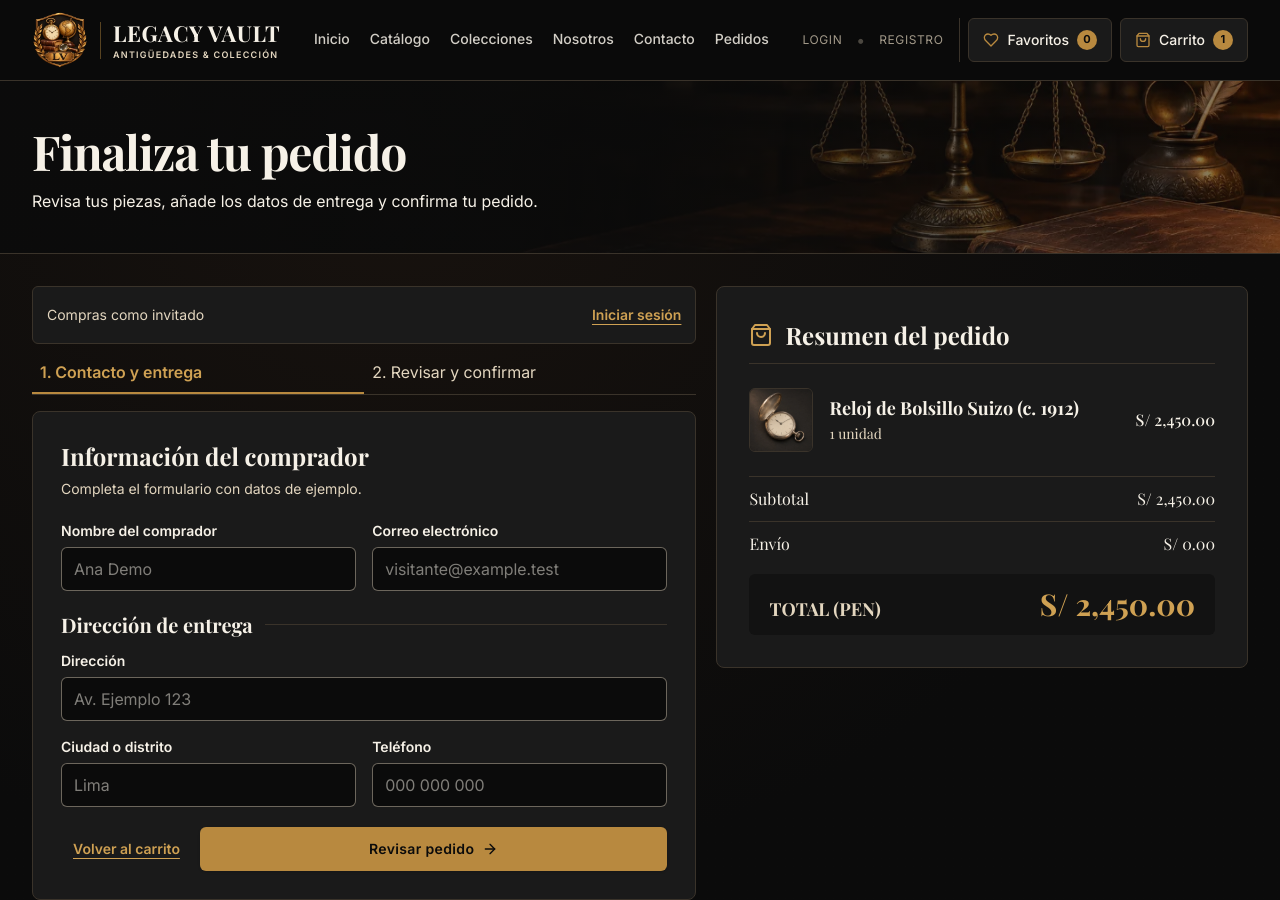
Test: Historial de pedidos simulados (OrdersPage & Checkout) › en checkout con JSON existente corrupto mantiene visible la confirmación, informa que no pudo añadirse al historial y no sobrescribe los datos previos
The image size is (1280, 900).
Expected: the heading "Finaliza tu pedido" is shown, [32,119,406,183]
Type "Juan Comprador" into the field labelled "Nombre del comprador". click: (209, 569)
box: [61,547,356,591]
Type "juan@ejemplo.com" into the field labelled "Correo electrónico". click: (520, 569)
box: [372,547,667,591]
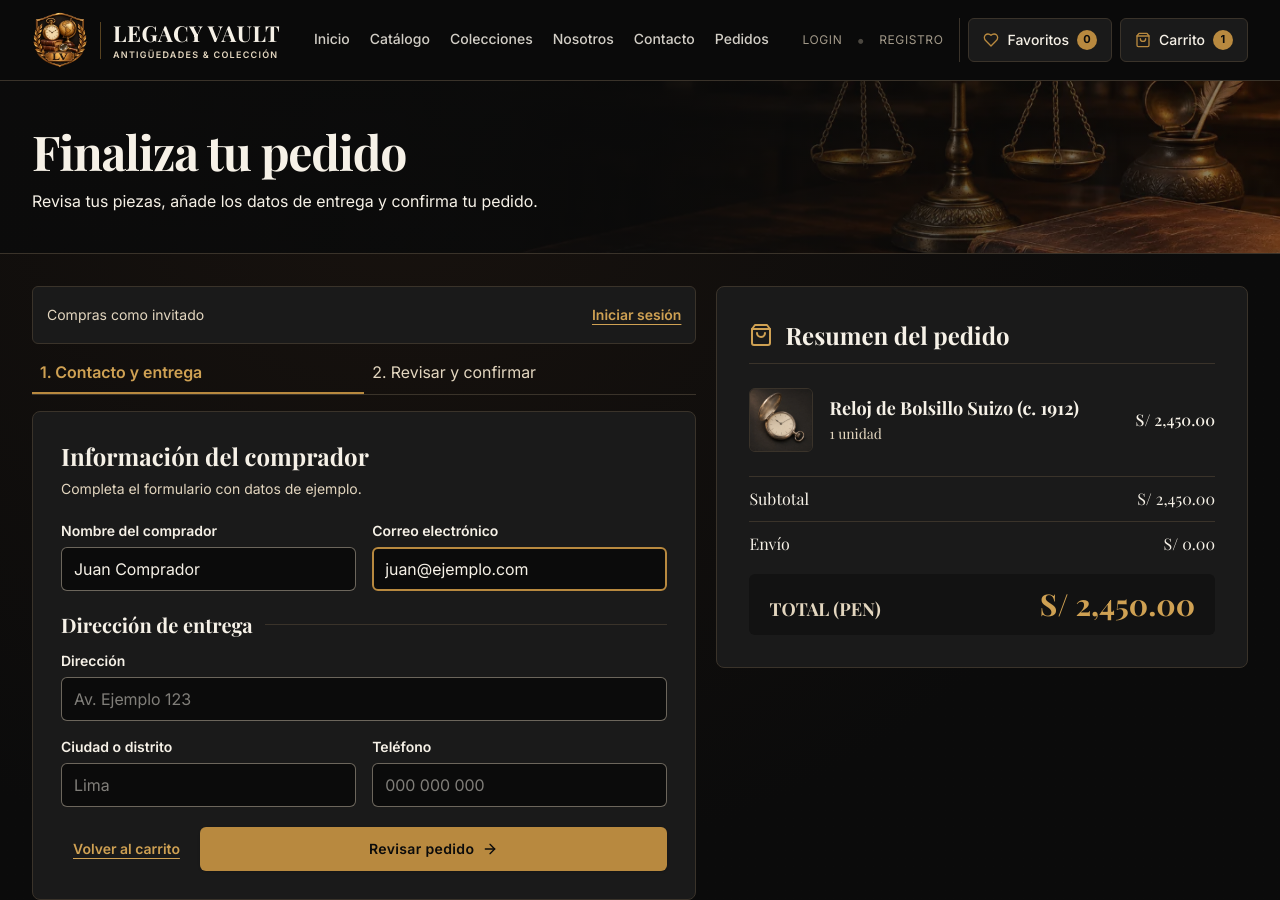
Type "Av. Historia 789" into the field labelled "Dirección". click: (364, 699)
box: [61,677,667,721]
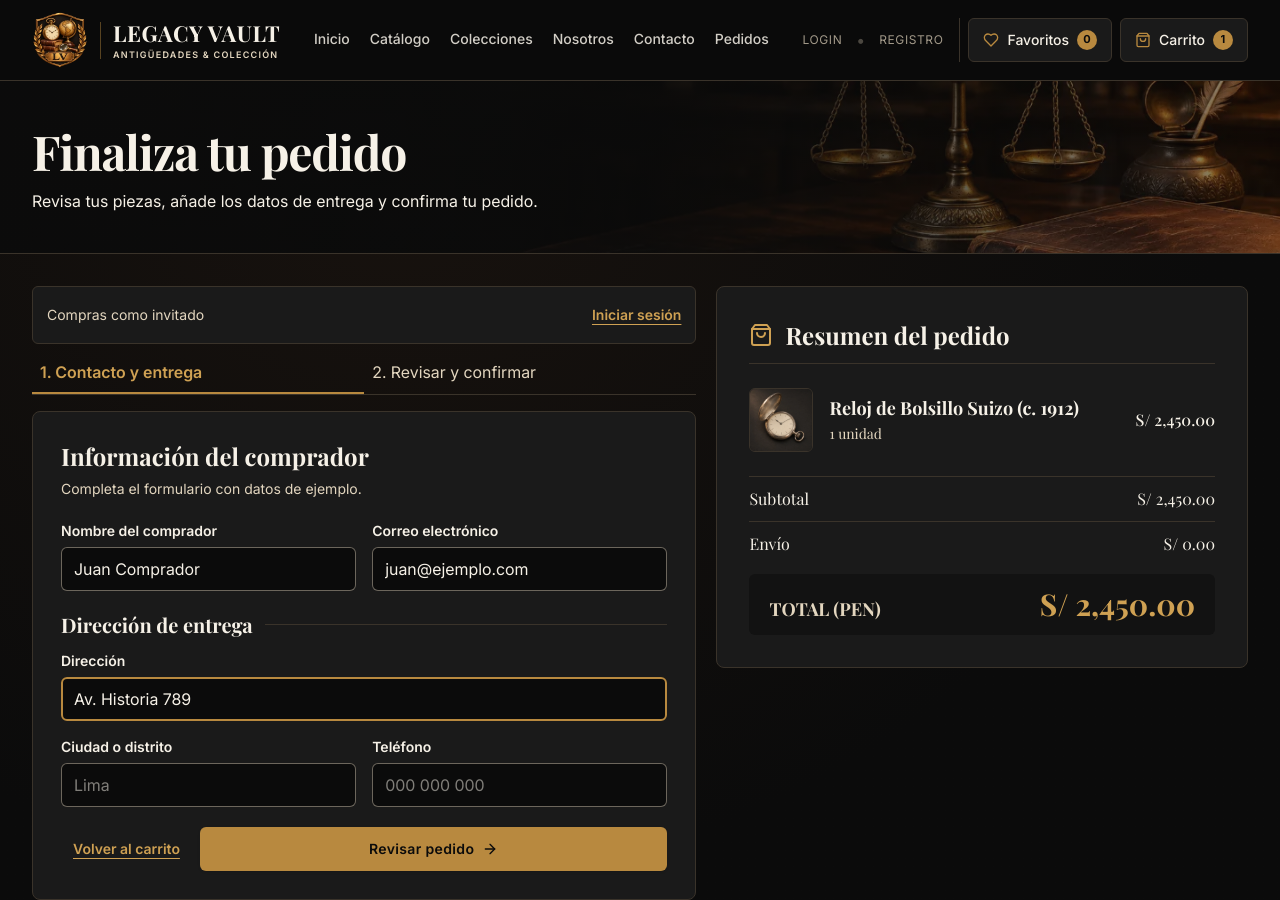
Type "Cusco" into the field labelled "Ciudad o distrito". click: (209, 785)
box: [61,763,356,807]
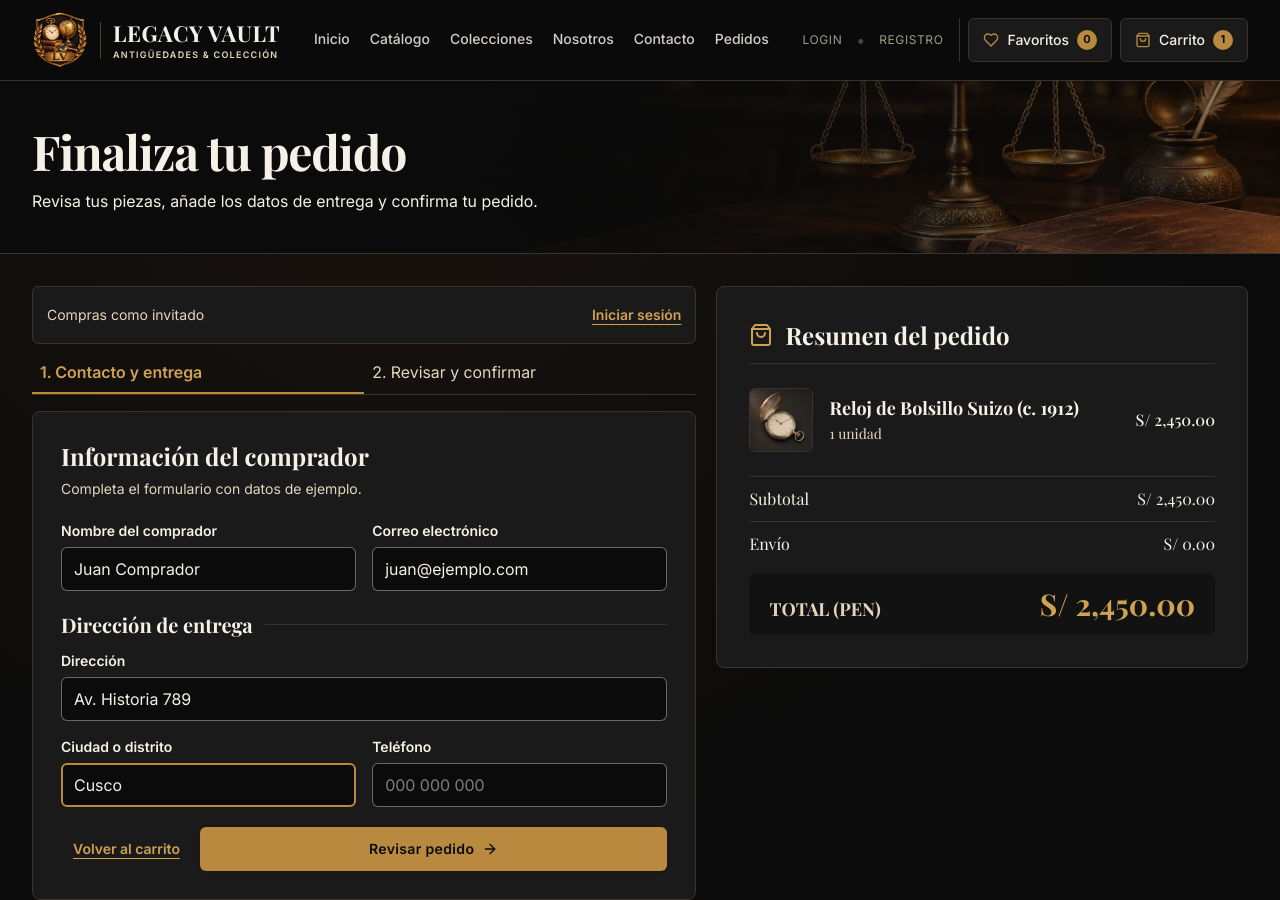
Type "955443322" into the field labelled "Teléfono". click: (520, 785)
box: [372,763,667,807]
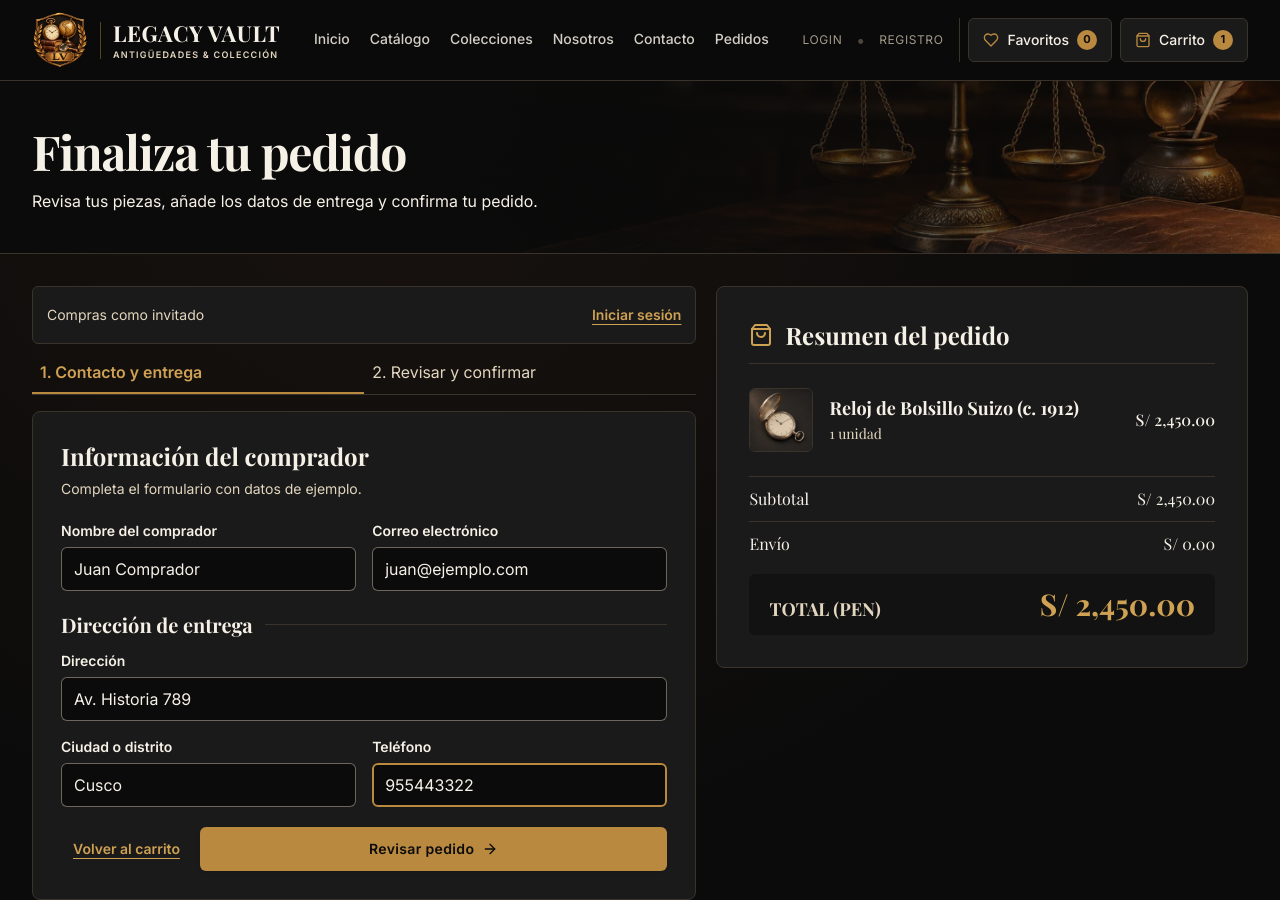
Click the button "Revisar pedido". click: (434, 849)
box: [200,827,667,871]
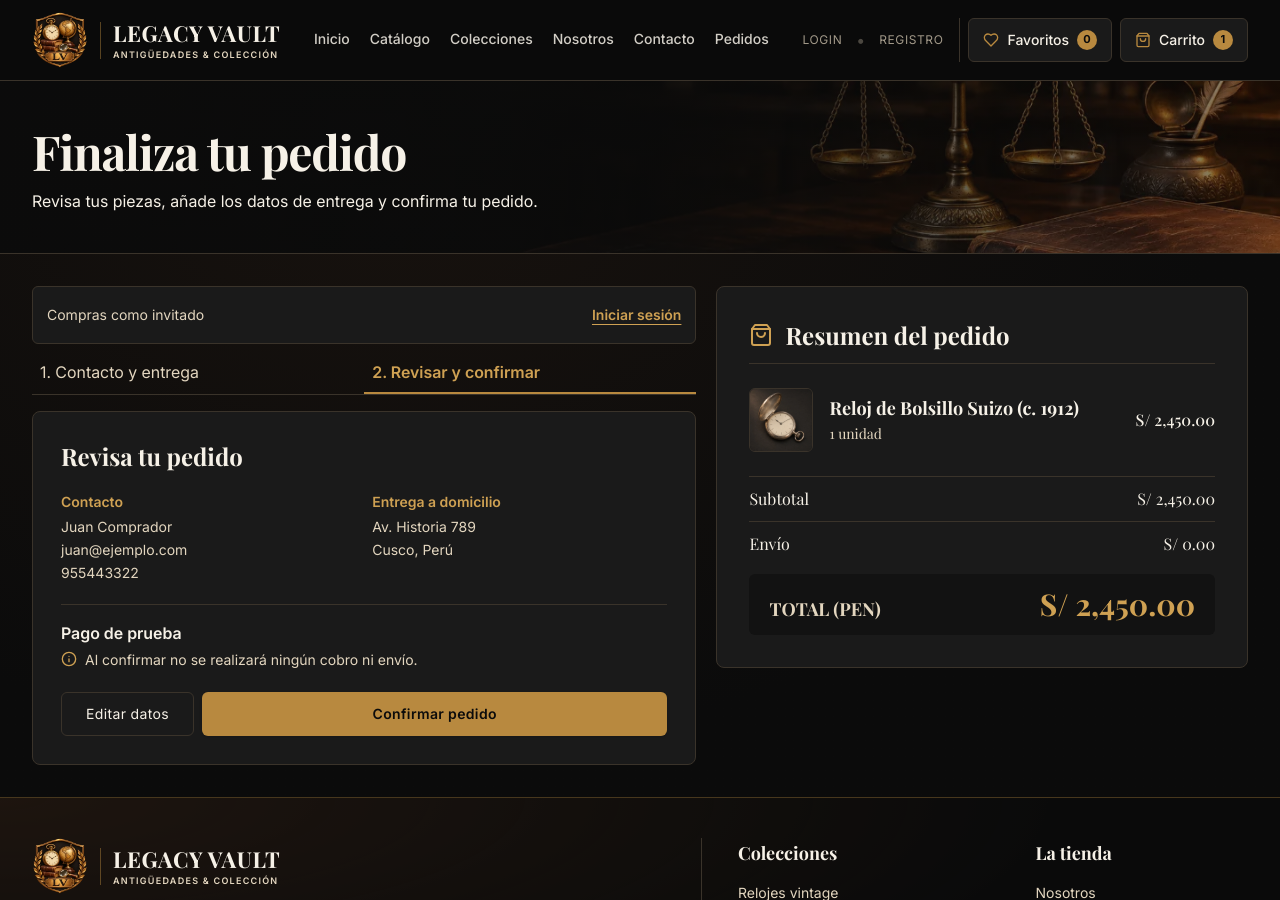
Click the button "Confirmar pedido". click: (435, 714)
box: [202,692,668,736]
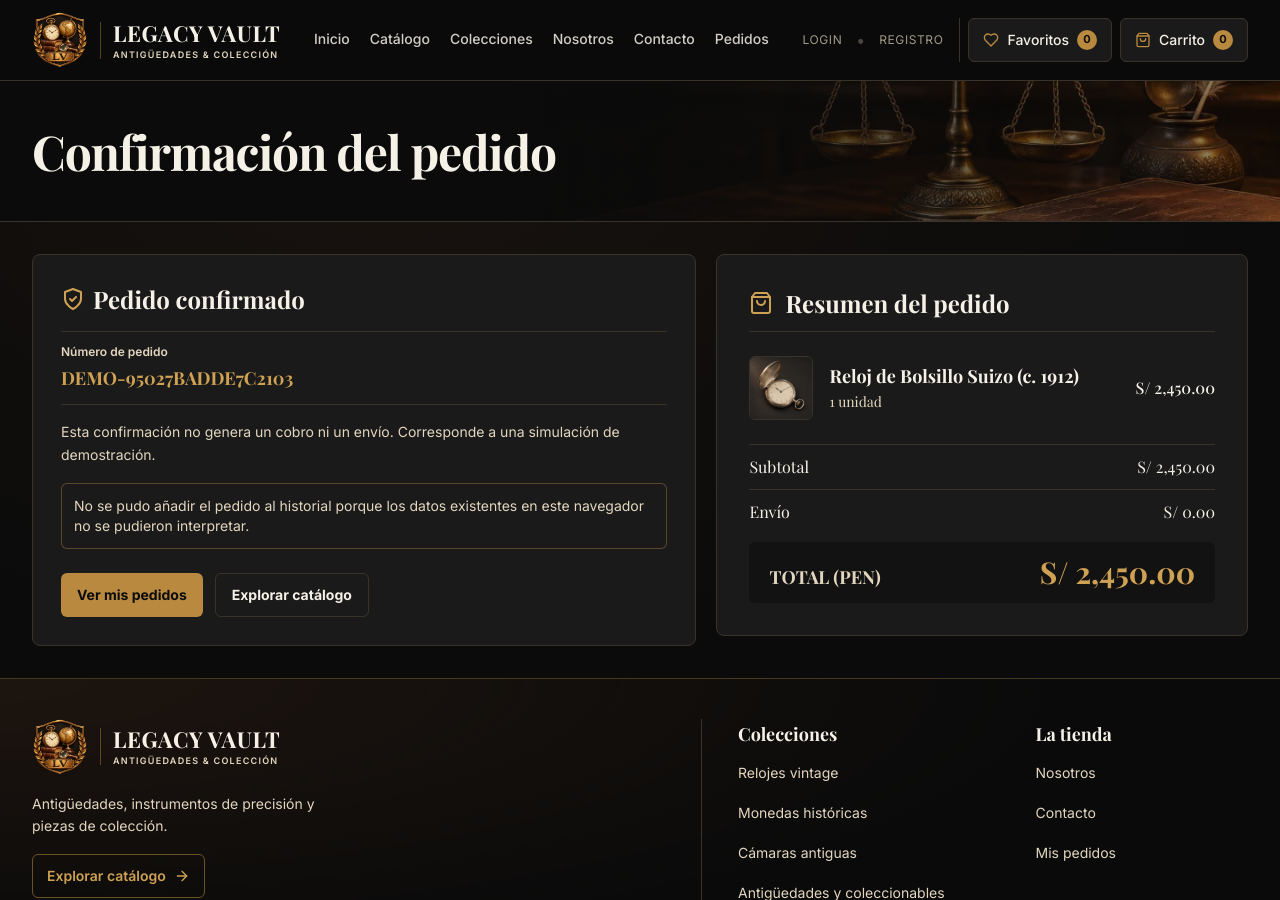
Expected: the heading "Pedido confirmado" is shown, [61,283,305,315]
Expected: the text "No se pudo añadir el pedido al historial" is shown, [74,496,644,534]
